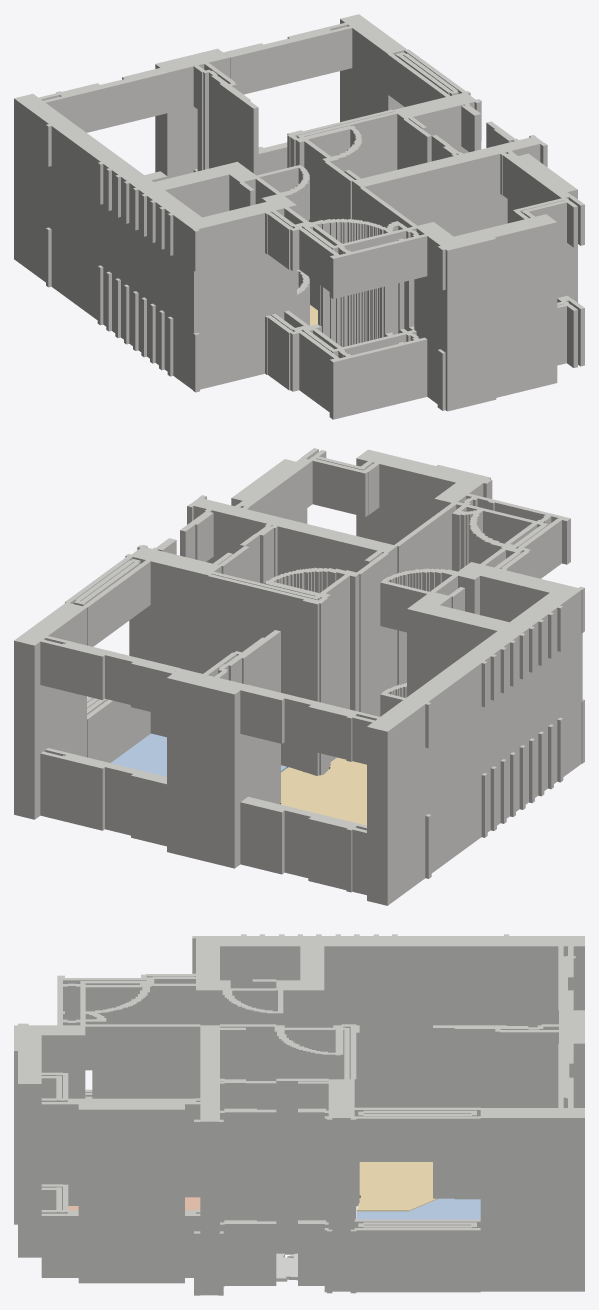
3 renders of one model, top to bottom at view 1: azimuth 30°, elevation 25°; view 2: azimuth 150°, elevation 25°; view 3: azimuth 270°, elevation 25°, orthographic. The views are drawn at different scales.
Parts seen in each view (by area): view 1: walls; view 2: walls, room:living:1, room:bedroom:0; view 3: walls, room:living:1, room:bedroom:0, room:ledge:2.
Part boxes in pixels (bbox=[...]): walls: bbox=[14, 14, 584, 419]; walls: bbox=[14, 448, 584, 905]; room:living:1: bbox=[280, 757, 366, 825]; room:bedroom:0: bbox=[111, 733, 286, 776]; walls: bbox=[14, 934, 584, 1295]; room:living:1: bbox=[357, 1162, 436, 1211]; room:bedroom:0: bbox=[357, 1198, 480, 1219]; room:ledge:2: bbox=[276, 1253, 297, 1281].
Bounding box in the file's own units: 6.48 × 2.8 × 8.34.
